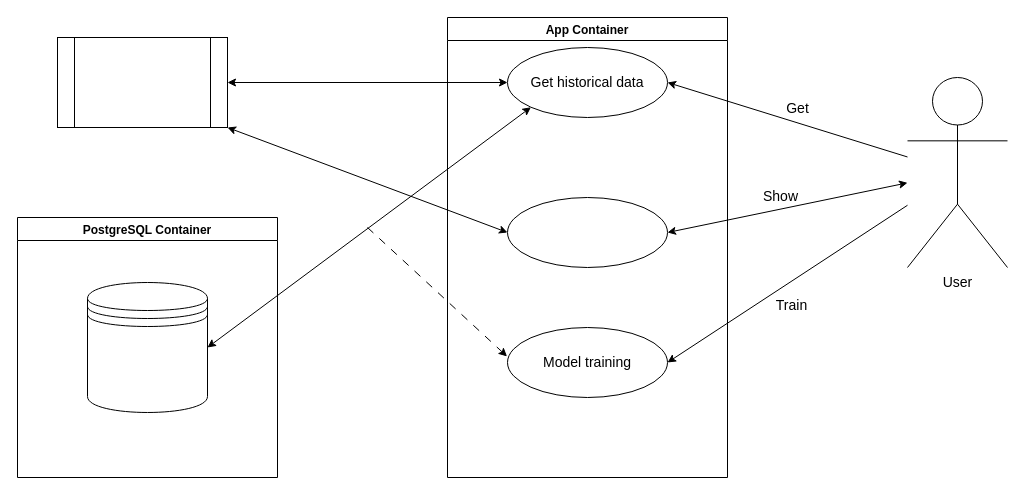
Image size: 1025x495. Some labels were removed from this diagram. The shapes that lost their labels are listed below. From the top down, each one's centre as x and y in pixels, then its label:
point (142, 82): Bionance or CoinCap
point (587, 232): Streaming
point (147, 347): Historical data
